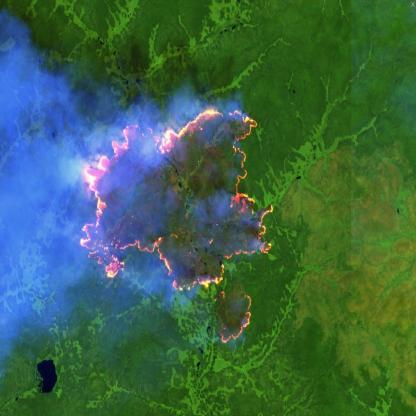fire: (76, 103, 275, 347)
